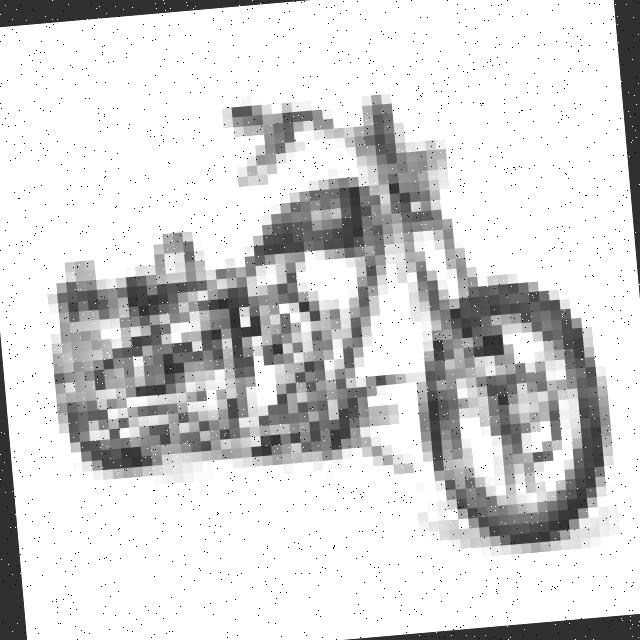mopeds: (20, 65, 640, 598)
